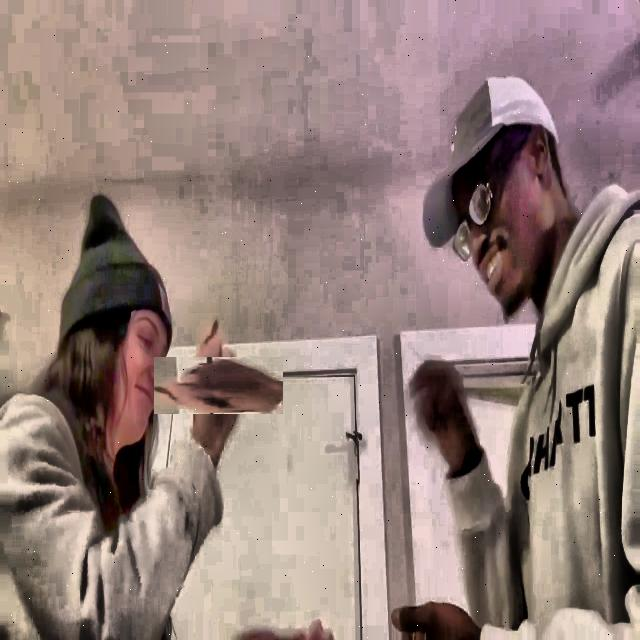not-gloved: (172, 339, 266, 432), (407, 365, 466, 466)
